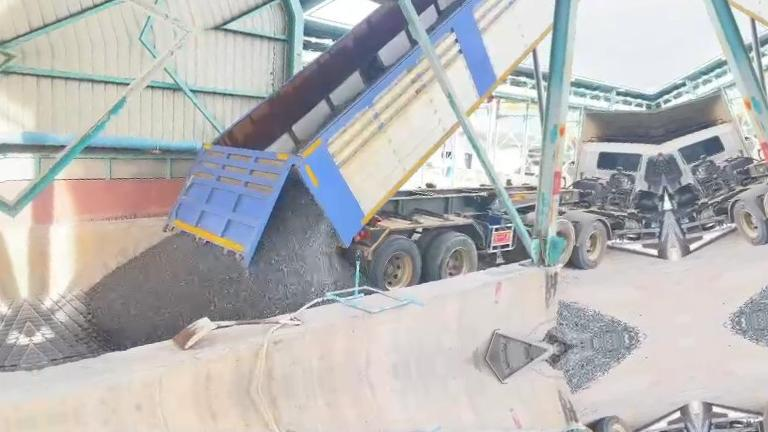gravel: (85, 174, 353, 349), (546, 300, 645, 346)
